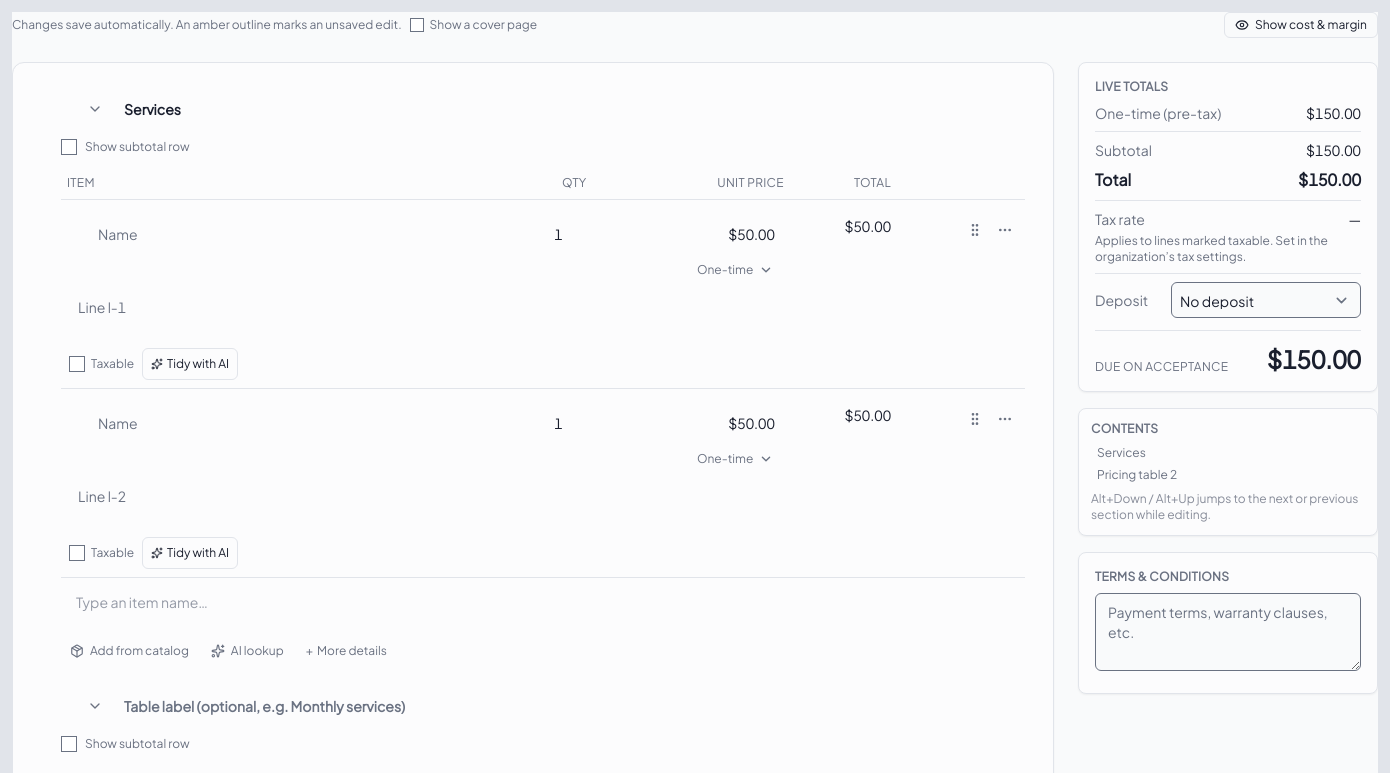
Test: QuoteEditor — move line between pricing panels › falls back to "Pricing table N" for an unlabeled target panel
Click the button with test id "quote-line-actions-l-1". click: (1005, 230)
box: [991, 216, 1019, 244]
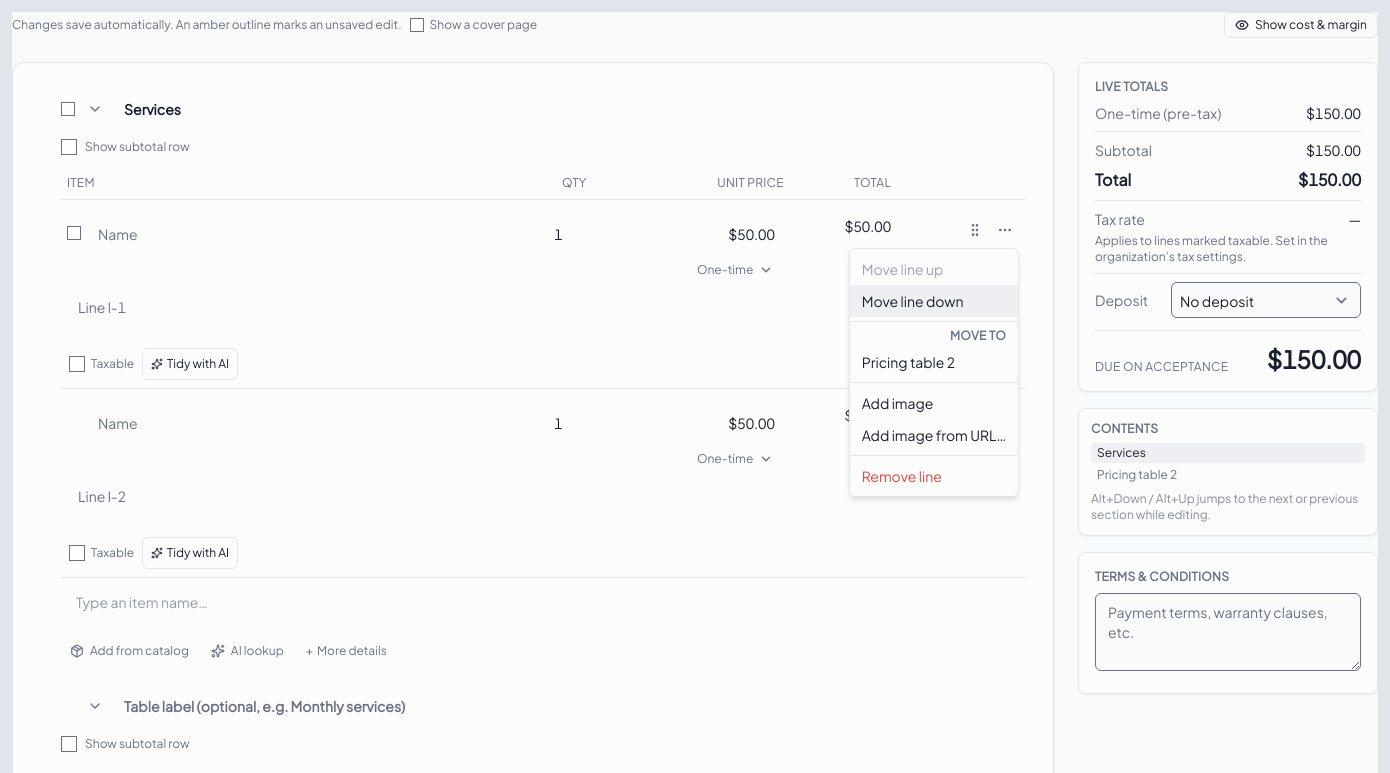
Expected: the menu item with test id "quote-line-move-to-l-1-blk-2" reads "Pricing table 2", [850, 346, 1018, 378]
